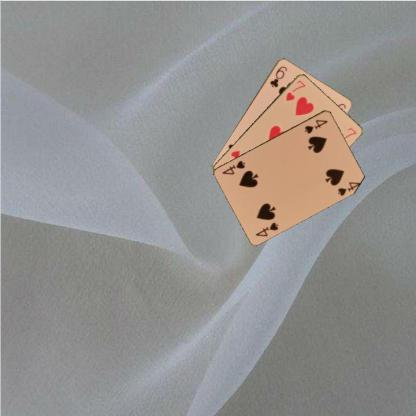4s: (253, 219, 280, 238), (302, 116, 329, 134)
6c: (268, 63, 288, 88)
7h: (283, 78, 307, 102)
